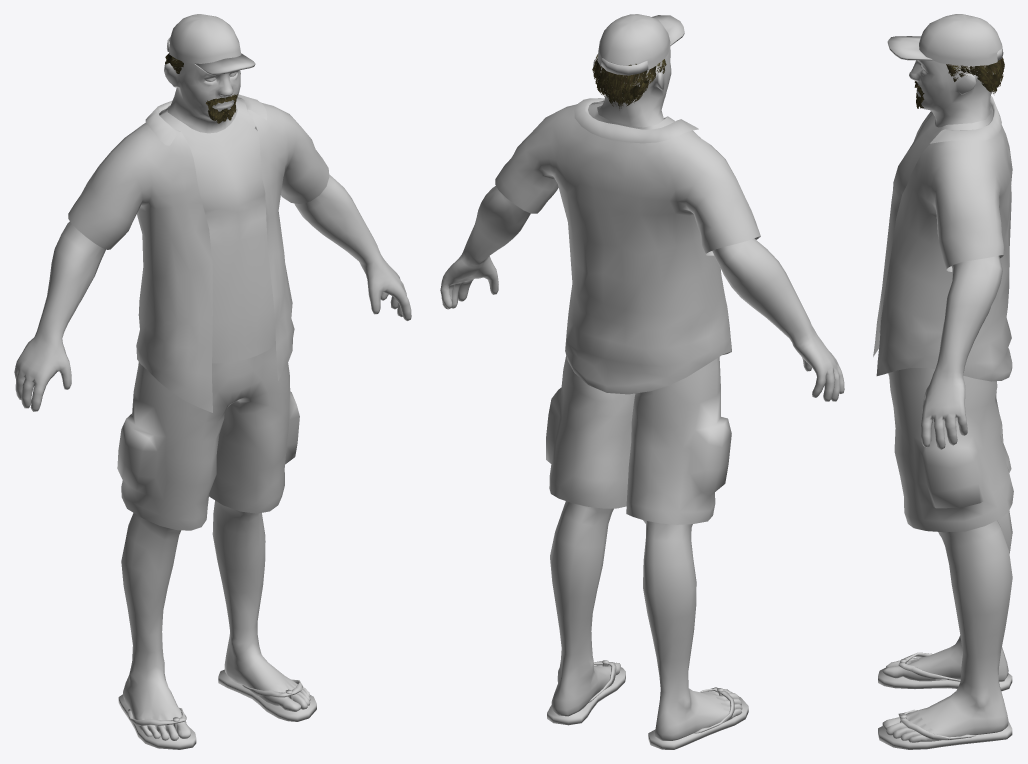
The model's file is Aiden_dad.fbx.
The picture shows the model from 3 angles, left to right: view 1: azimuth 30°, elevation 25°; view 2: azimuth 150°, elevation 25°; view 3: azimuth 270°, elevation 25°; orthographic projection.
Parts seen in each view (by area): view 1: LOW POLY, hair; view 2: LOW POLY, hair; view 3: LOW POLY, hair.
Part boxes in pixels (left/top/right/bottom): LOW POLY: left=14, top=14, right=411, bottom=749; hair: left=165, top=53, right=237, bottom=123; LOW POLY: left=440, top=14, right=844, bottom=749; hair: left=592, top=54, right=666, bottom=108; LOW POLY: left=873, top=14, right=1013, bottom=749; hair: left=914, top=57, right=1004, bottom=108.
Bounding box in the file's own units: 155 × 264 × 48.87.
